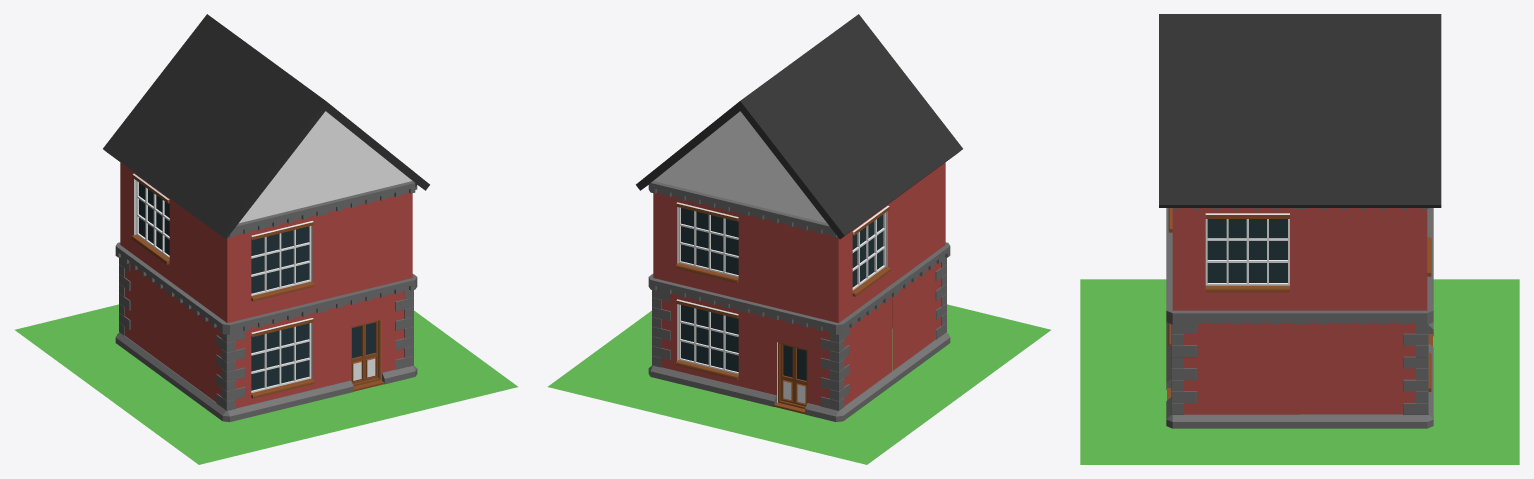
File: 1x1 Residential House - Detail.fbx
3 renders of one model, left to right at view 1: azimuth 30°, elevation 25°; view 2: azimuth 150°, elevation 25°; view 3: azimuth 270°, elevation 25°, orthographic. The views are drawn at different scales.
Parts seen in each view (by area): view 1: 1x1 Residential House - Detail; view 2: 1x1 Residential House - Detail; view 3: 1x1 Residential House - Detail.
Part boxes in pixels (x1,y1,x2,y2): 1x1 Residential House - Detail: [15, 14, 517, 464]; 1x1 Residential House - Detail: [548, 14, 1050, 464]; 1x1 Residential House - Detail: [1080, 14, 1519, 464].
Bounding box in the file's own units: 1 × 0.8997 × 1.
